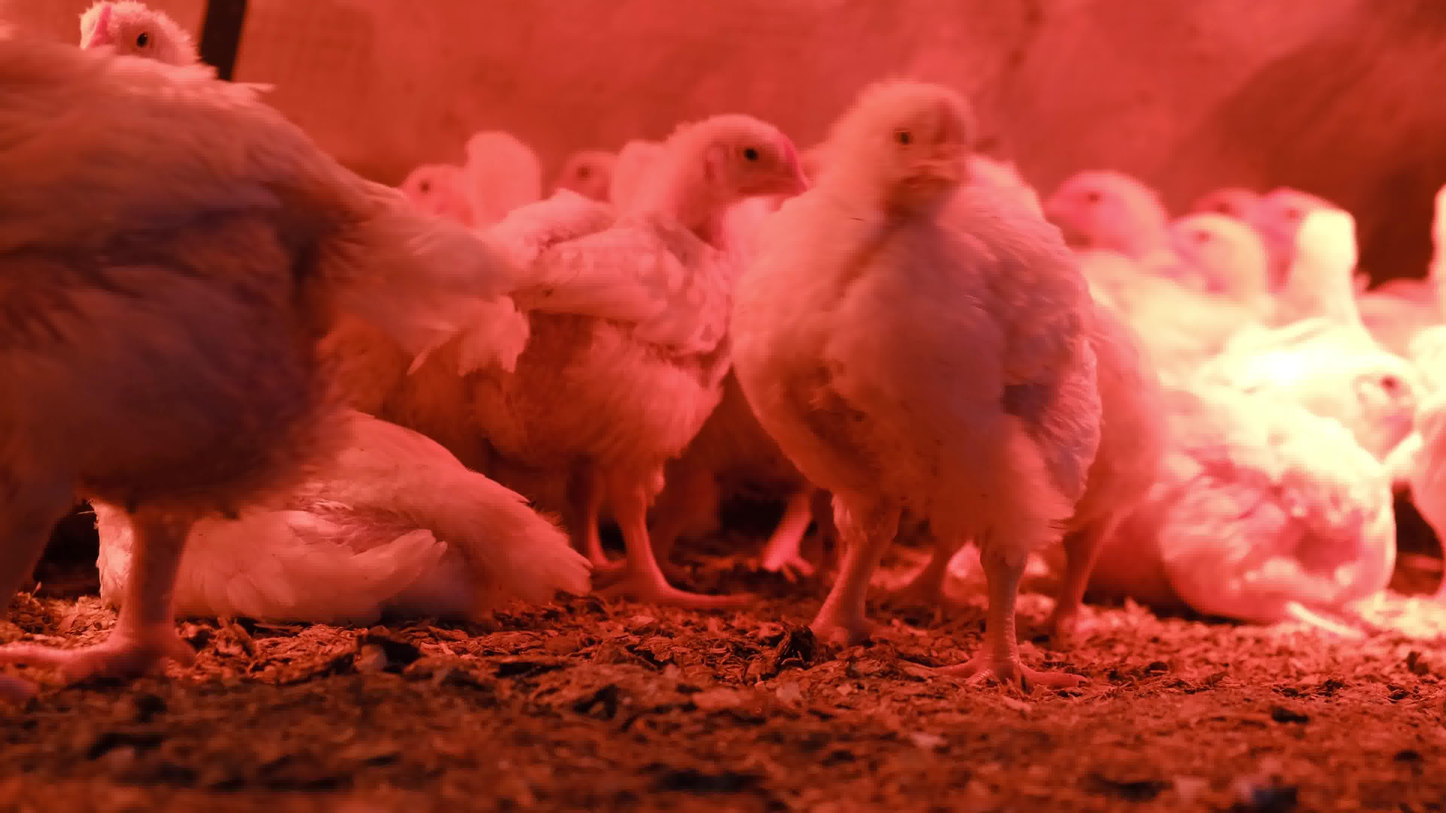AbNormal: (149, 299, 627, 634), (1081, 295, 1425, 672)
Normal: (740, 49, 1169, 726), (0, 0, 373, 738), (542, 104, 802, 606), (1237, 199, 1444, 474), (377, 68, 604, 292), (1137, 167, 1277, 390), (1032, 126, 1188, 277)
